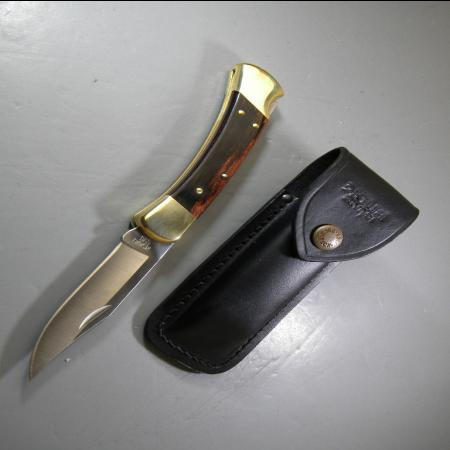long weapon: (24, 212, 184, 386)
